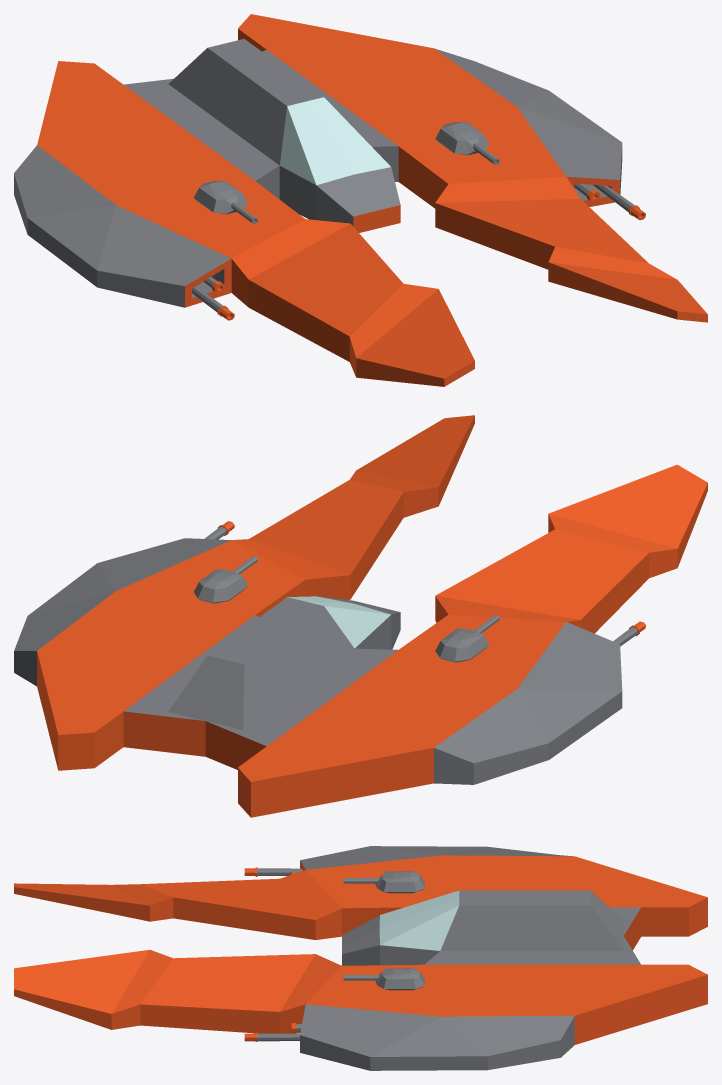
File: drone_6_0.gltf
3 views of the same model, one above another, from view 1: azimuth 30°, elevation 25°; view 2: azimuth 150°, elevation 25°; view 3: azimuth 270°, elevation 25° (orthographic). The views are drawn at different scales.
Parts seen in each view (by area): view 1: 6; view 2: 6; view 3: 6.
Boxes of the visible parts, left/top/right/bottom form: 6: left=14, top=14, right=707, bottom=386; 6: left=14, top=415, right=707, bottom=817; 6: left=14, top=846, right=707, bottom=1070.
Size of the model in its own units: 5.82 by 0.9081 by 8.09.
1 material, 1 textured.
